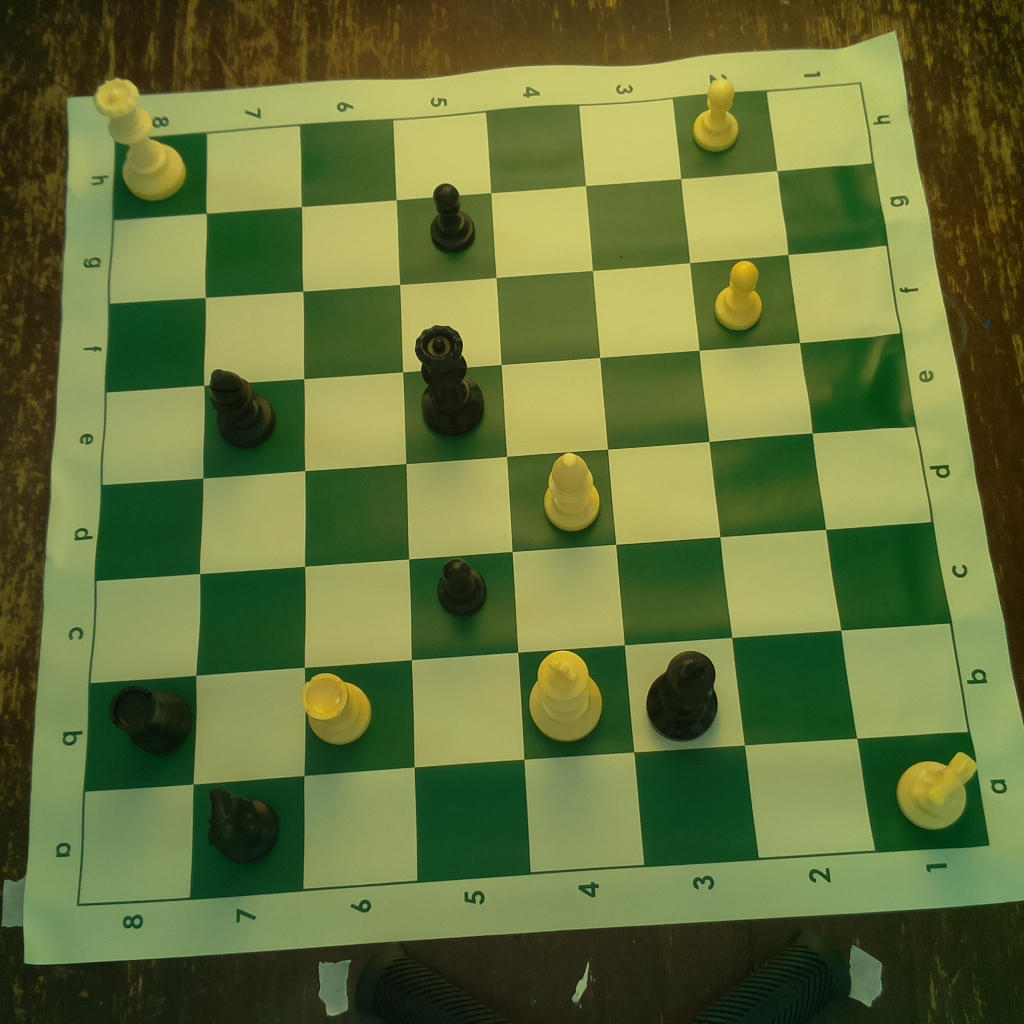black_bishop: (205, 369, 277, 449)
black_king: (637, 641, 724, 744)
black_knight: (197, 777, 285, 869)
black_pawn: (425, 175, 480, 257), (434, 552, 493, 617)
black_queen: (410, 321, 490, 438)
black_rook: (102, 678, 198, 754)
file_a: (72, 732, 994, 904)
file_b: (84, 623, 970, 792)
file_c: (86, 522, 953, 683)
file_d: (97, 427, 933, 582)
file_e: (99, 335, 916, 483)
file_f: (106, 244, 897, 392)
file_g: (105, 164, 888, 302)
file_h: (111, 83, 875, 221)
outline: (76, 83, 994, 906)
rank_1: (767, 84, 990, 853)
rank_2: (675, 88, 877, 860)
rank_3: (581, 97, 759, 866)
rank_4: (488, 102, 644, 875)
rank_5: (392, 110, 532, 886)
rank_6: (299, 121, 421, 888)
rank_7: (194, 125, 302, 897)
rank_8: (75, 134, 207, 904)
white_bishop: (537, 445, 606, 538)
white_king: (523, 645, 607, 741)
white_knight: (894, 744, 979, 834)
white_pawn: (707, 254, 766, 335), (689, 74, 747, 152)
white_queen: (90, 74, 190, 206)
white_rook: (294, 667, 379, 745)
